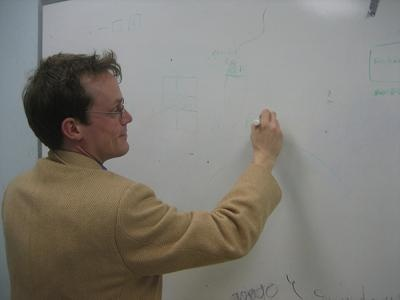person without safety: (9, 50, 166, 282)
